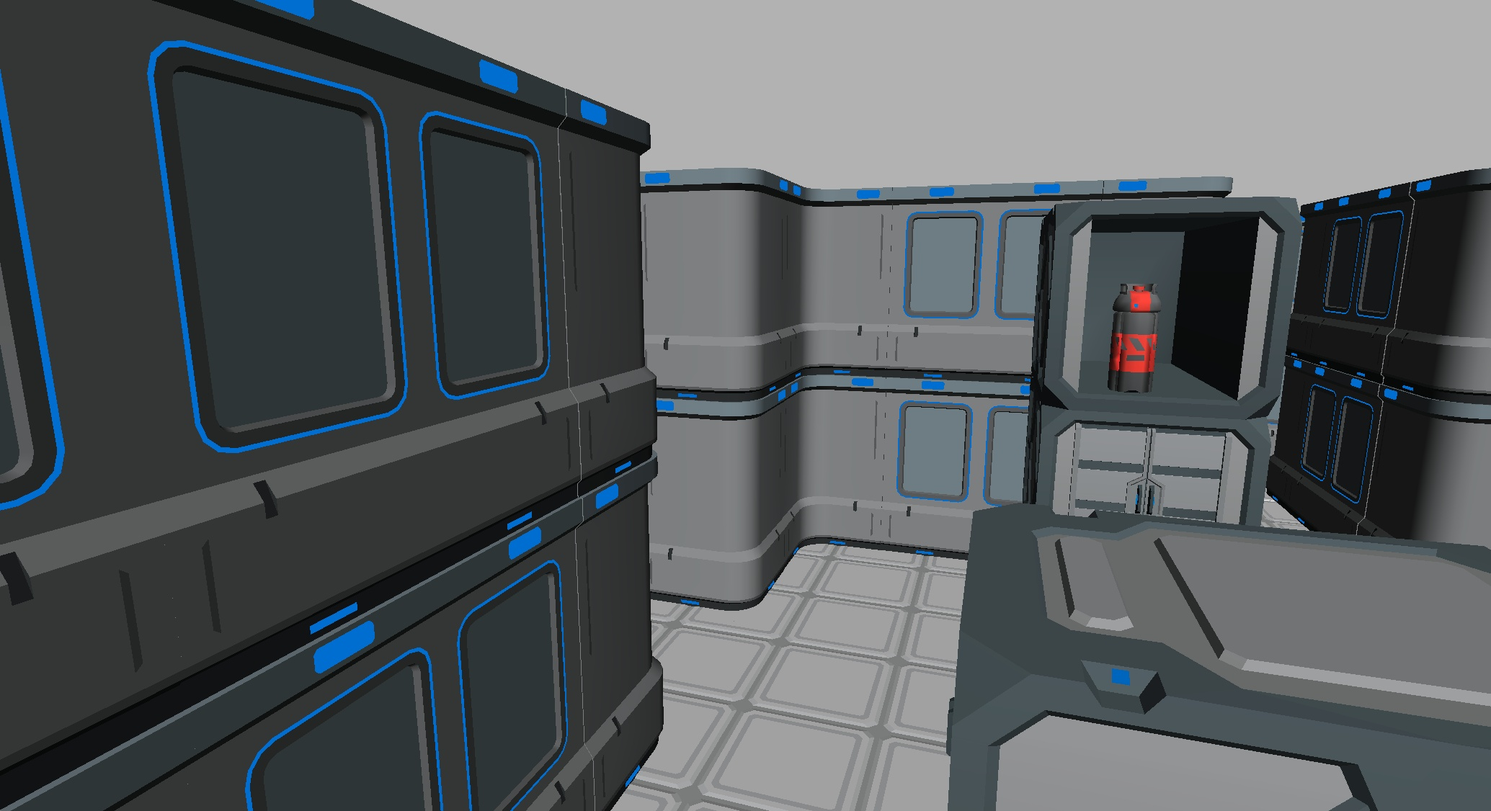red_barrel: (1109, 284, 1160, 392)
